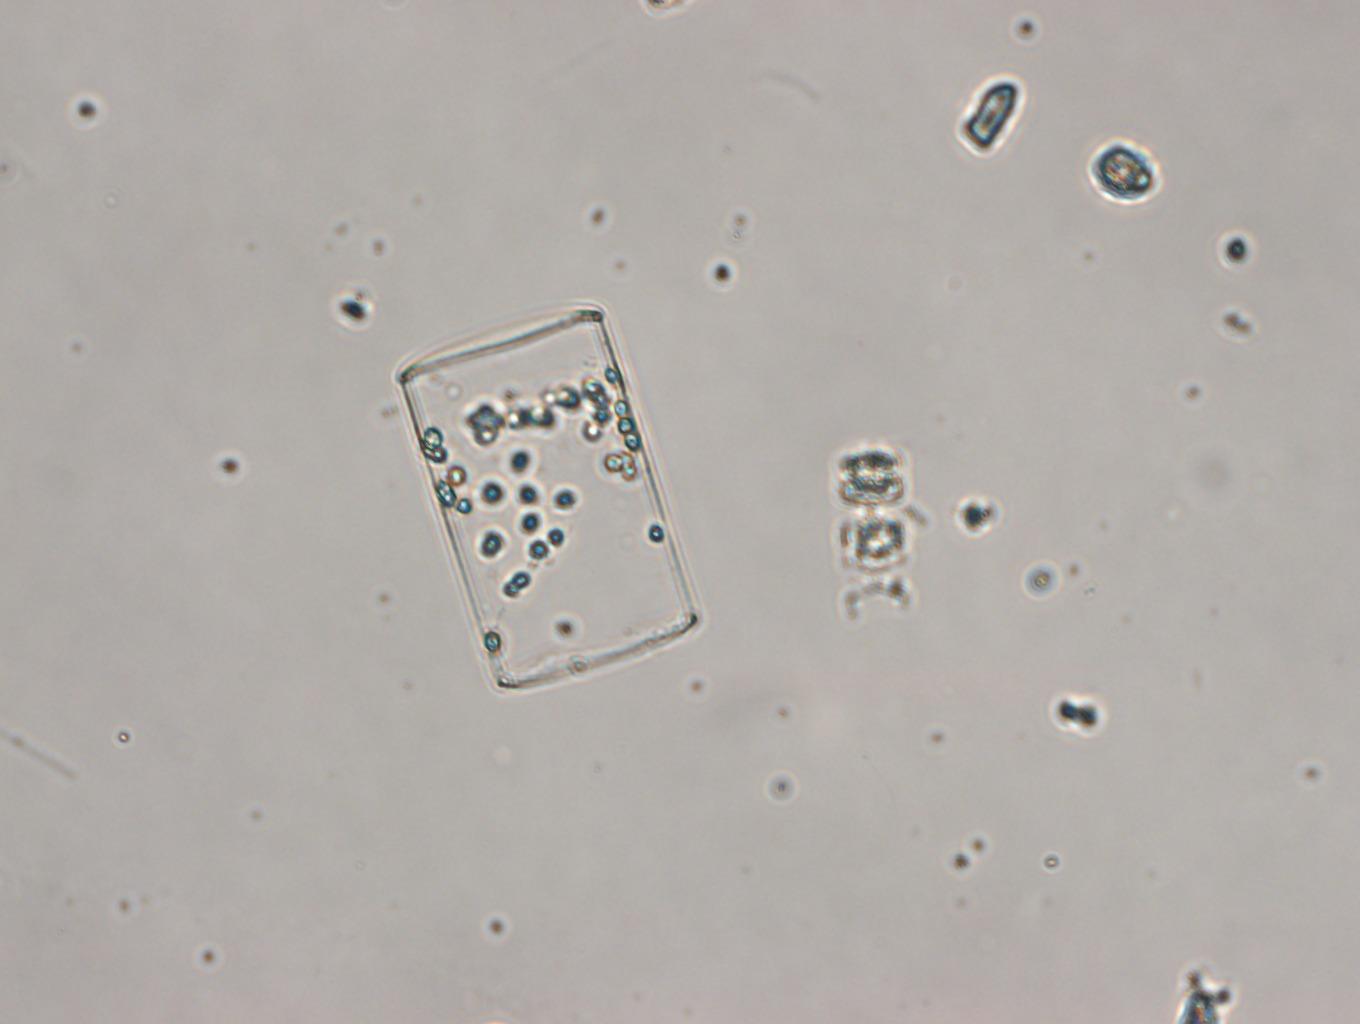guinardia flaccida: (380, 302, 712, 694)
